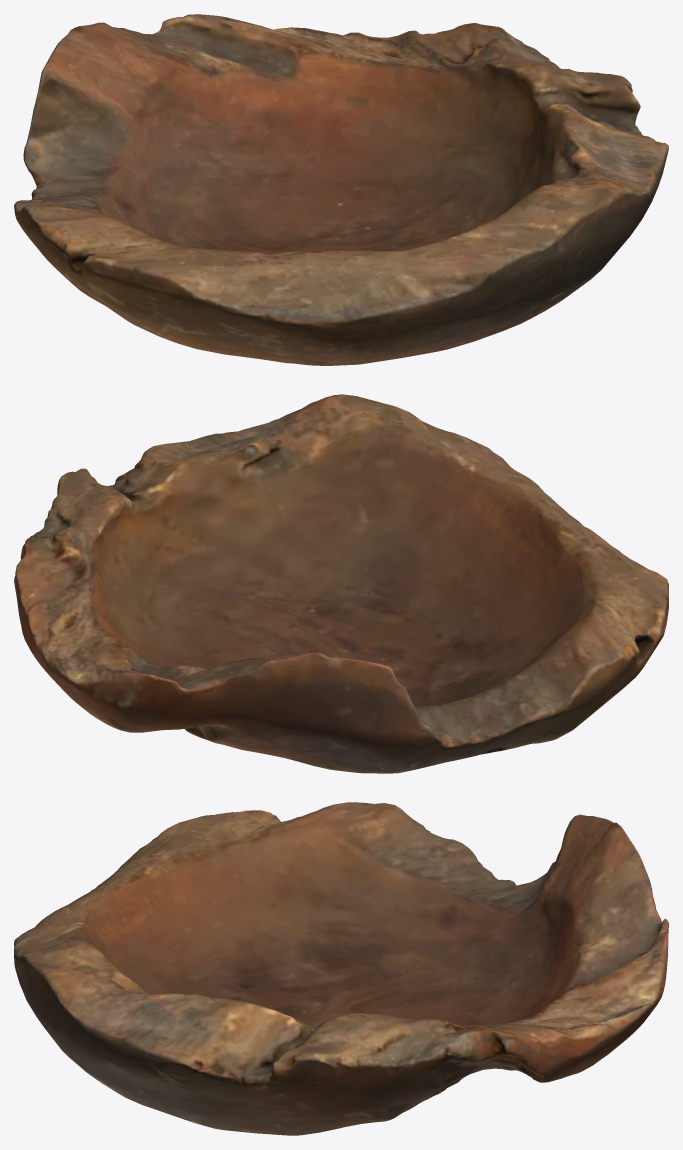
File: wooden_bowl_01.glb
3 views of the same model, one above another, from view 1: azimuth 30°, elevation 25°; view 2: azimuth 150°, elevation 25°; view 3: azimuth 270°, elevation 25° (orthographic). The views are drawn at different scales.
Parts seen in each view (by area): view 1: wooden_bowl_01; view 2: wooden_bowl_01; view 3: wooden_bowl_01.
Boxes of the visible parts, left/top/right/bottom form: wooden_bowl_01: left=14, top=14, right=668, bottom=365; wooden_bowl_01: left=14, top=394, right=668, bottom=773; wooden_bowl_01: left=14, top=802, right=668, bottom=1135.
Size of the model in its own units: 0.3131 by 0.0937 by 0.3091.
1 material, 1 textured.
